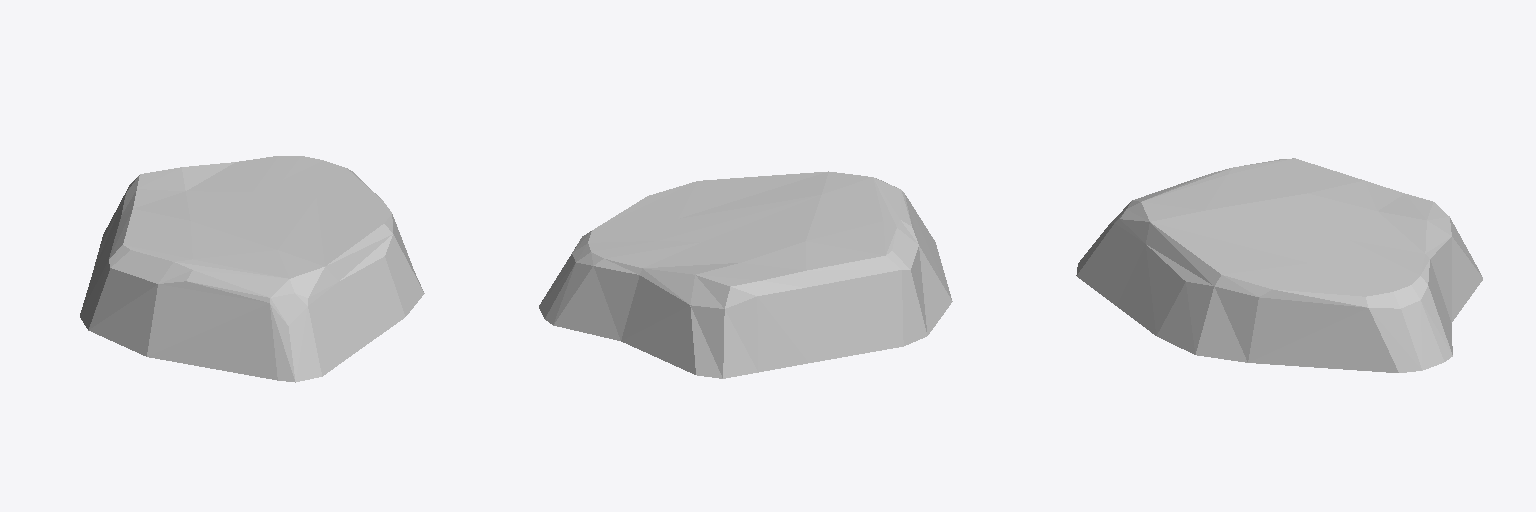
File: Pebble_Round_3.obj
The picture shows the model from 3 angles: view 1: azimuth 30°, elevation 25°; view 2: azimuth 150°, elevation 25°; view 3: azimuth 270°, elevation 25°; orthographic projection.
Parts seen in each view (by area): view 1: Pebble_Round_3; view 2: Pebble_Round_3; view 3: Pebble_Round_3.
Part boxes in pixels (x1,y1,x2,y2): Pebble_Round_3: (80, 156, 424, 382); Pebble_Round_3: (539, 171, 952, 378); Pebble_Round_3: (1076, 158, 1482, 372).
Bounding box in the file's own units: 0.4497 × 0.0986 × 0.4848.